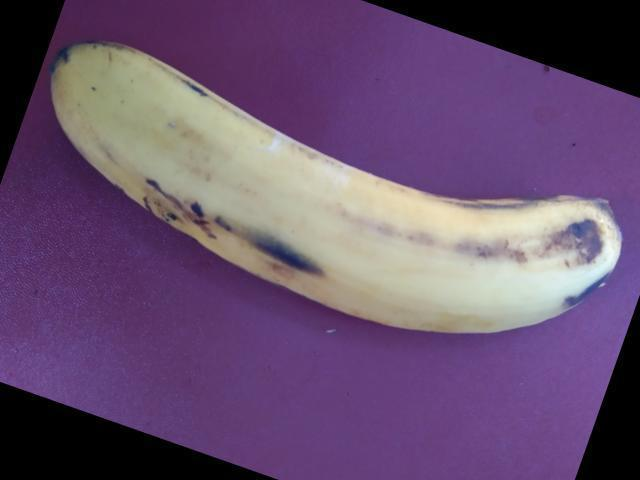ripe: (36, 23, 639, 345)
